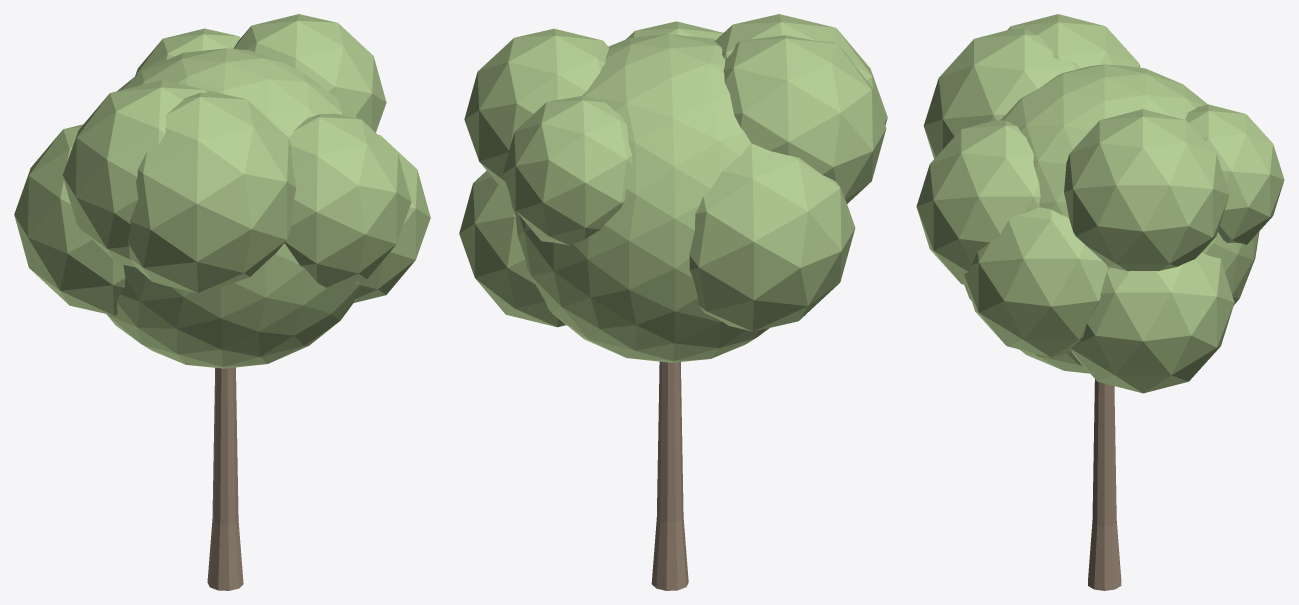
File: tree_b.glb
3 views of the same model, side by side, from view 1: azimuth 30°, elevation 25°; view 2: azimuth 150°, elevation 25°; view 3: azimuth 270°, elevation 25° (orthographic). The views are drawn at different scales.
Parts seen in each view (by area): view 1: tree_b_leaf2, tree_b_bark; view 2: tree_b_leaf2, tree_b_bark; view 3: tree_b_leaf2, tree_b_bark.
Boxes of the visible parts, box(x1,y1,x2,y2) form: tree_b_leaf2: box(14, 14, 430, 368); tree_b_bark: box(207, 367, 243, 590); tree_b_leaf2: box(459, 14, 887, 362); tree_b_bark: box(651, 361, 688, 590); tree_b_leaf2: box(916, 14, 1284, 393); tree_b_bark: box(1088, 379, 1121, 590).
Bounding box in the file's own units: 4.07 × 5.85 × 3.76.
